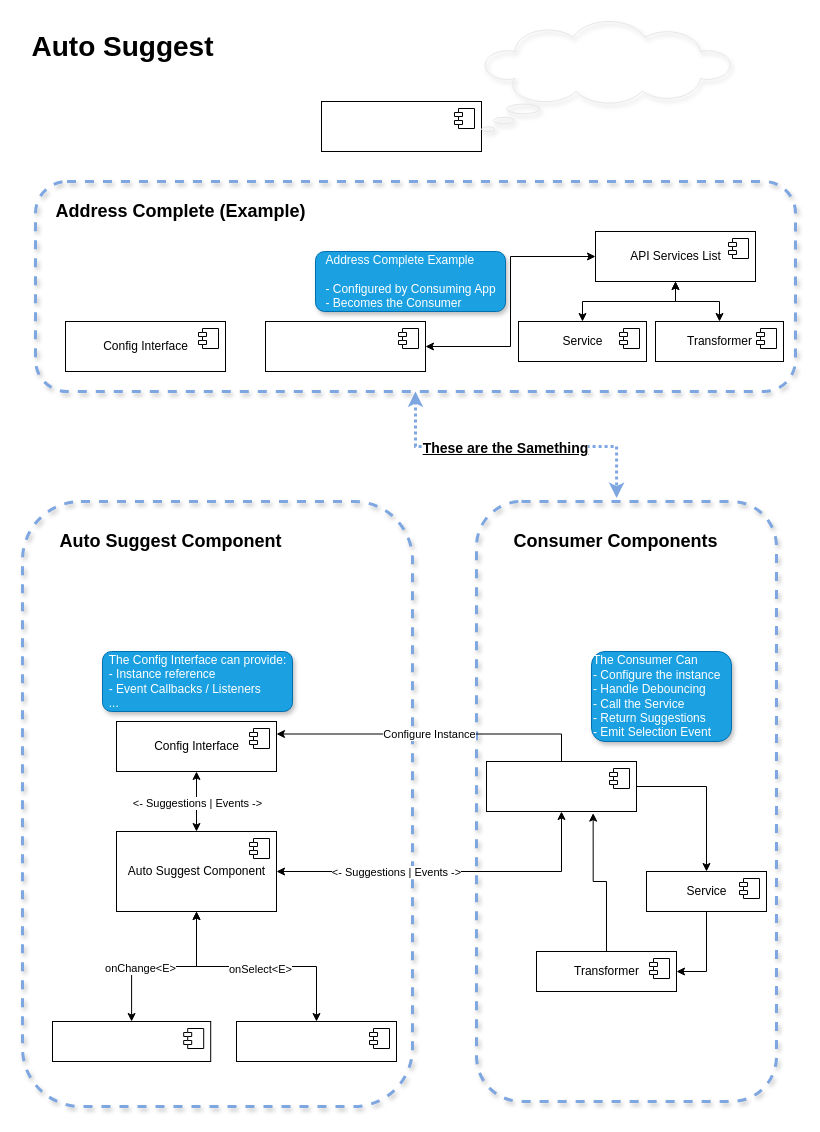
Image size: 820x1132. Some labels were removed from this diagram. The centre of each missing label's shape, as x and y in pixels:
"Can Config: API(s) Selection Selection Callback / Listener" goes at point (607, 77).
"Consumer" goes at point (561, 786).
"Consuming App" goes at point (401, 126).
"Input Field" goes at point (131, 1041).
"Specific Complete (eg. Address)" goes at point (345, 346).
"Suggestion List" goes at point (316, 1041).
